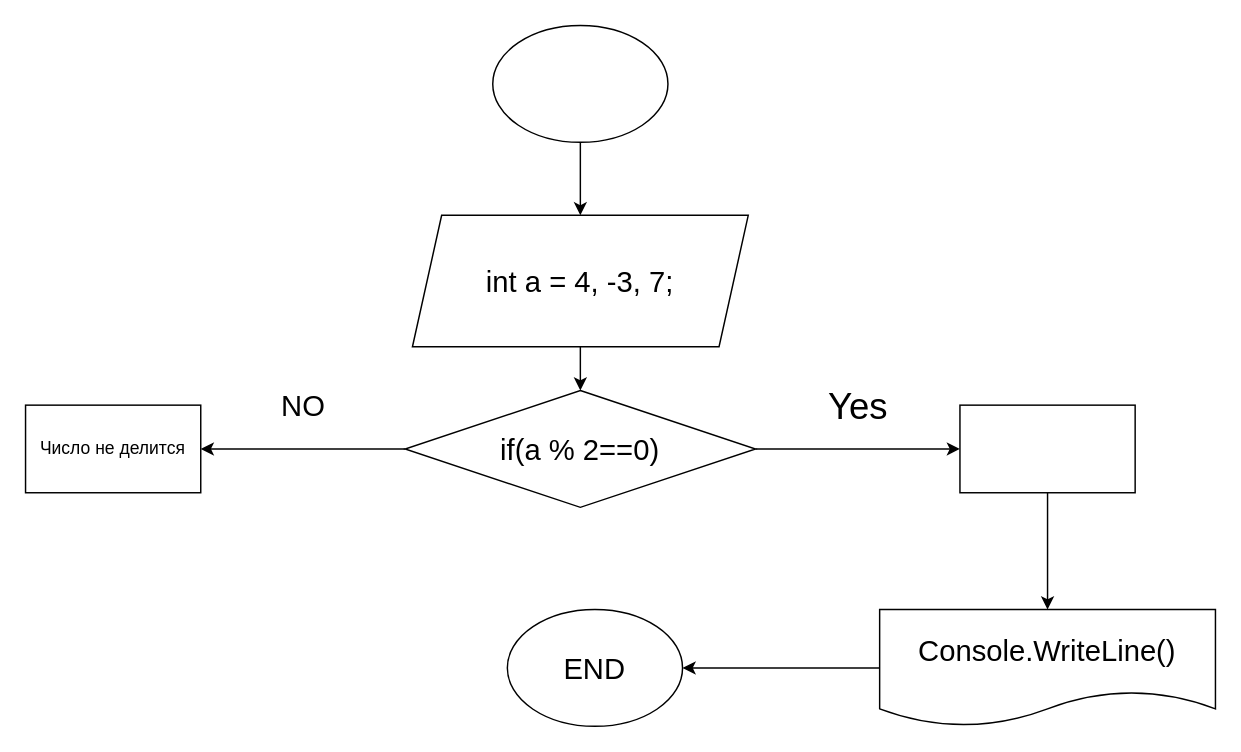
Some shapes in this 1241 by 752 pixel diagram are drawn without their labels. The shapes that lost their labels are listed below. From the top down, each one's centre as x and y in pixels, then its label:
At point (579, 83): "START".
At point (1046, 448): "Число делится".
